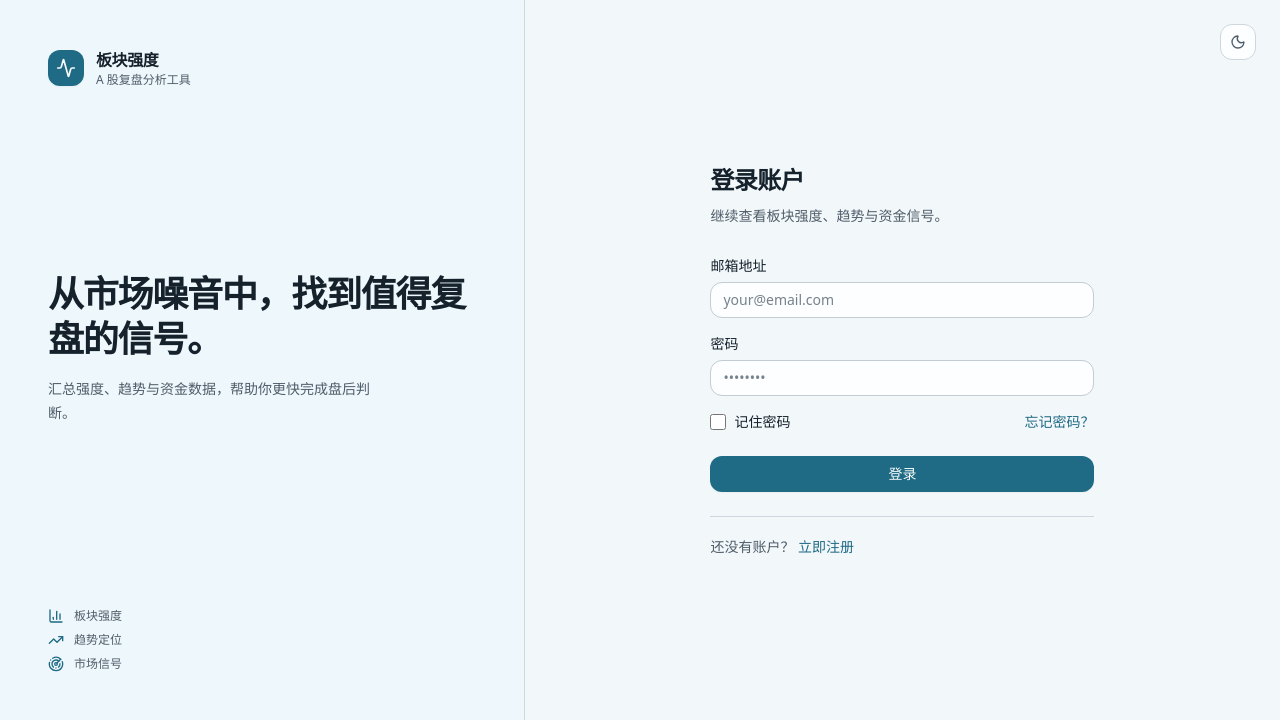
LoginPage › 应该验证邮箱格式
In the field with placeholder "your@email.com": (902, 300) [710,282,1094,318], type "invalid-email"
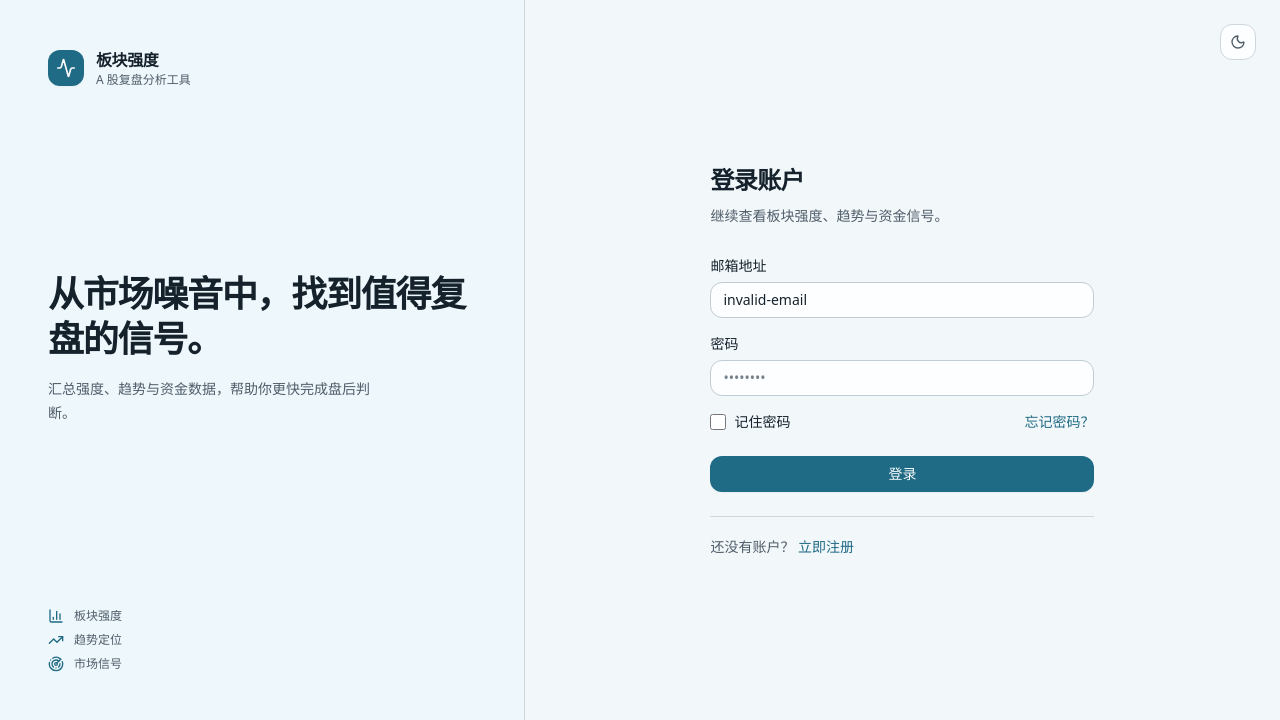
Click the button "登录": (902, 474) [710,456,1094,492]
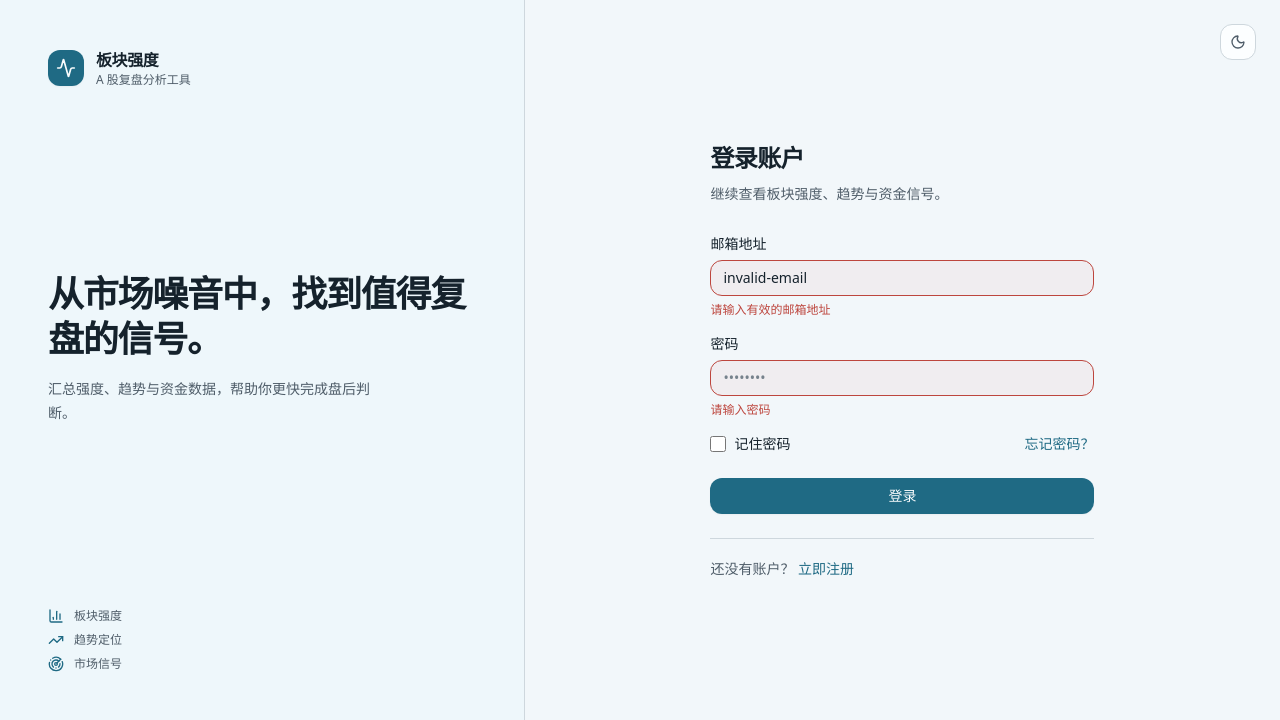
Now the text "请输入有效的邮箱地址" is shown, box [710,300,830,318]
